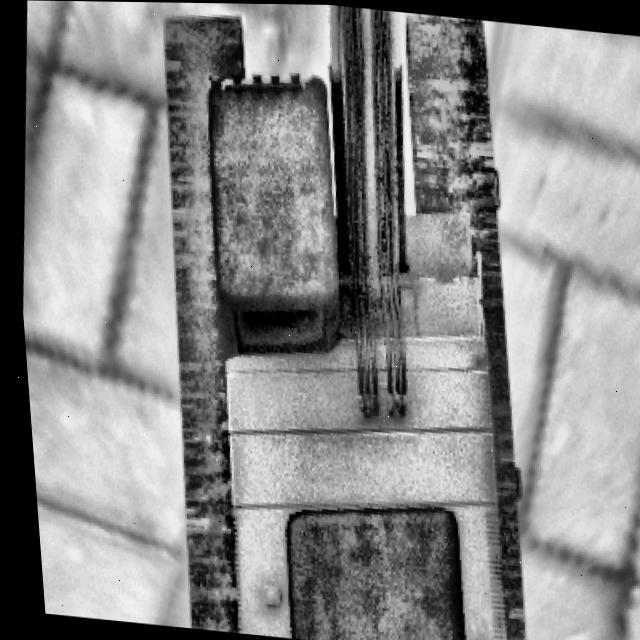excavator: (109, 1, 568, 640)
